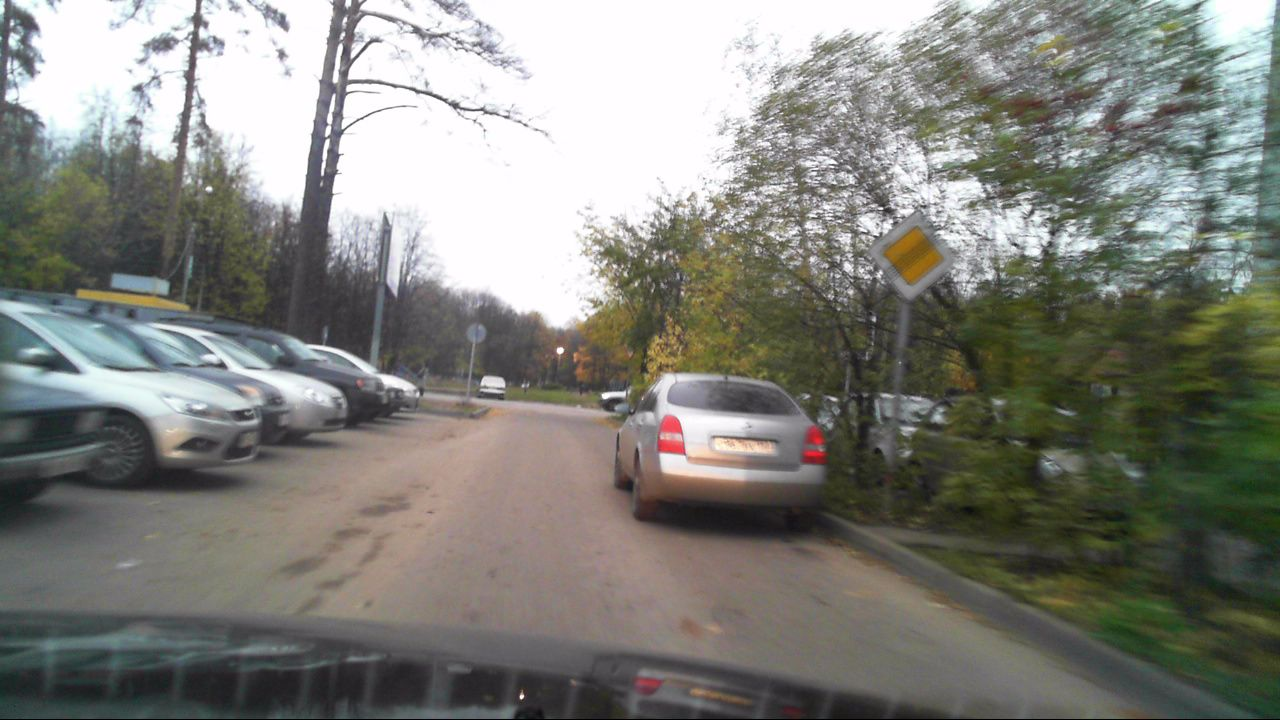main road: (871, 208, 957, 300)
